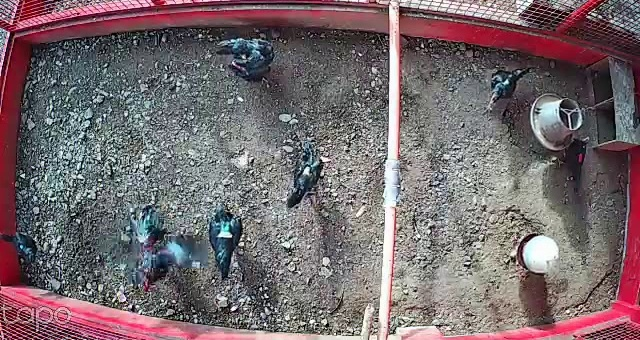Chicken: (211, 34, 286, 85), (203, 199, 248, 280), (284, 138, 330, 213), (481, 63, 533, 119), (554, 131, 591, 193)
Rooster: (124, 196, 187, 294)
Saddle_Color_Red: (577, 152, 583, 161)
Saddle_Color_YellowGreen: (217, 221, 236, 239)
